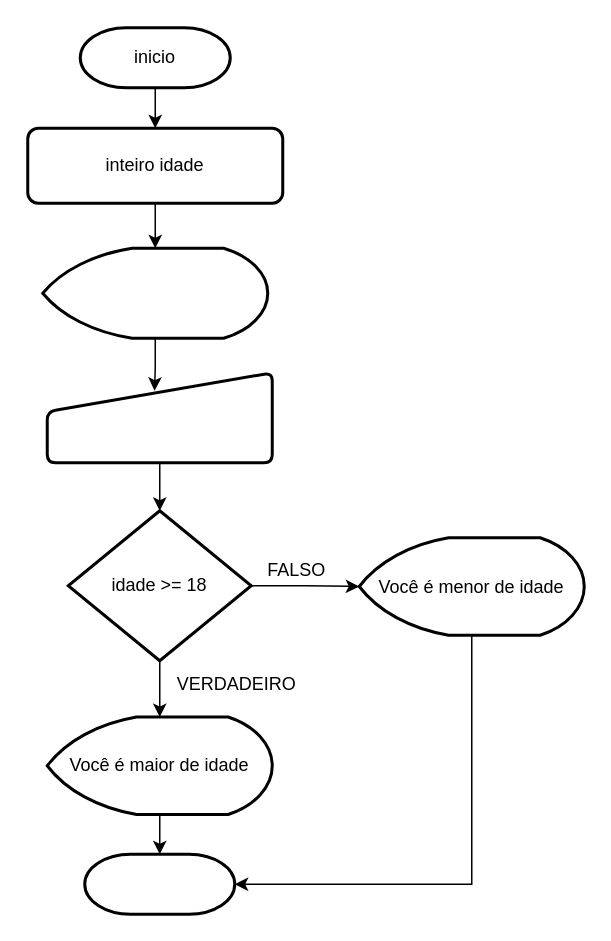
This 611x941 diagram has some shape labels left out. The centre of each missing label's shape, as x and y in pixels:
Digite sua idade:: point 154,292
fim: point 159,883
idade: point 159,417
